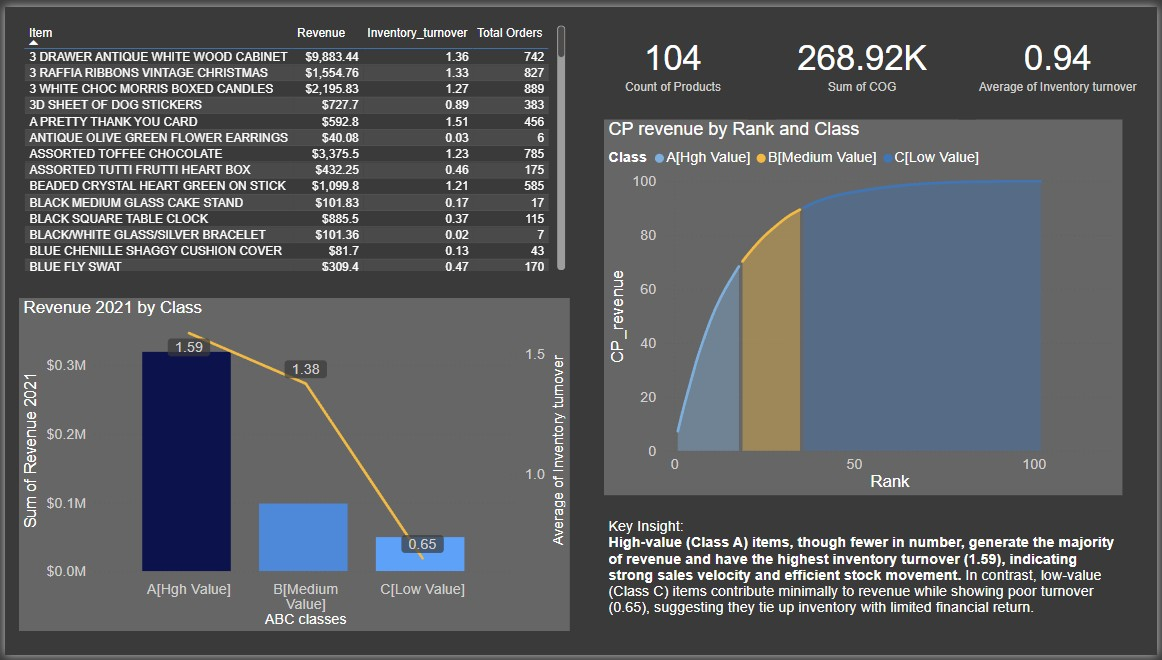

Layout of this report page (visuals, bound fields, positions):
{"tool":"powerbi","page":{"name":"Main Metrics","canvas":[1280,720],"ordinal":0},"visuals":[{"type":"areaChart","title":"CP revenue by Rank and Class","fields":{"Y":["Avg(ABC.CP_revenue)"],"Category":["ABC.Rank"],"Series":["ABC.ABC_class"]},"box":[665.2,124.7,576.4,417.6],"z":0},{"type":"lineStackedColumnComboChart","title":"Revenue 2021 by Class","fields":{"Category":["ABC.ABC_class"],"Y":["Sum(Stock.Revenue_2021)"],"Y2":["Avg(Turnover.Inventory_turnover)"]},"box":[15.1,323.2,612.3,370.4],"z":1000},{"type":"tableEx","fields":{"Values":["Turnover.Description","Stock.Revenue_2021","Turnover.Inventory_turnover","Stock.Total_Orders_2021"]},"box":[15.1,15.1,612.3,281.6],"z":2000},{"type":"card","fields":{"Values":["CountNonNull(Stock.Description)"]},"box":[627.4,0,228.7,124.7],"z":3000},{"type":"card","fields":{"Values":["Sum(Stock.Total_cogs)"]},"box":[825.8,0,253.2,124.7],"z":4000},{"type":"card","fields":{"Values":["Avg(Turnover.Inventory_turnover)"]},"box":[1060.2,0,219.2,124.7],"z":5000},{"type":"textbox","box":[665.2,563,576.4,128.5],"z":6000}]}

Visuals, with their boxes in screenshot pixels (x1, y1, x2, y2), scaled from the page's 1280x720 canvas onto the 1162x660 screenshot:
"CP revenue by Rank and Class" areaChart: rect(604, 114, 1127, 497)
"Revenue 2021 by Class" lineStackedColumnComboChart: rect(14, 296, 570, 636)
tableEx - Turnover.Description x Stock.Revenue_2021: rect(14, 14, 570, 272)
card - CountNonNull(Stock.Description): rect(570, 0, 777, 114)
card - Sum(Stock.Total_cogs): rect(750, 0, 980, 114)
card - Avg(Turnover.Inventory_turnover): rect(962, 0, 1161, 114)
textbox: rect(604, 516, 1127, 634)
